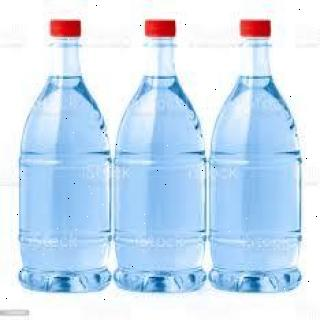Plastic-bottle: (113, 16, 212, 297), (19, 17, 116, 299), (209, 18, 306, 298)
